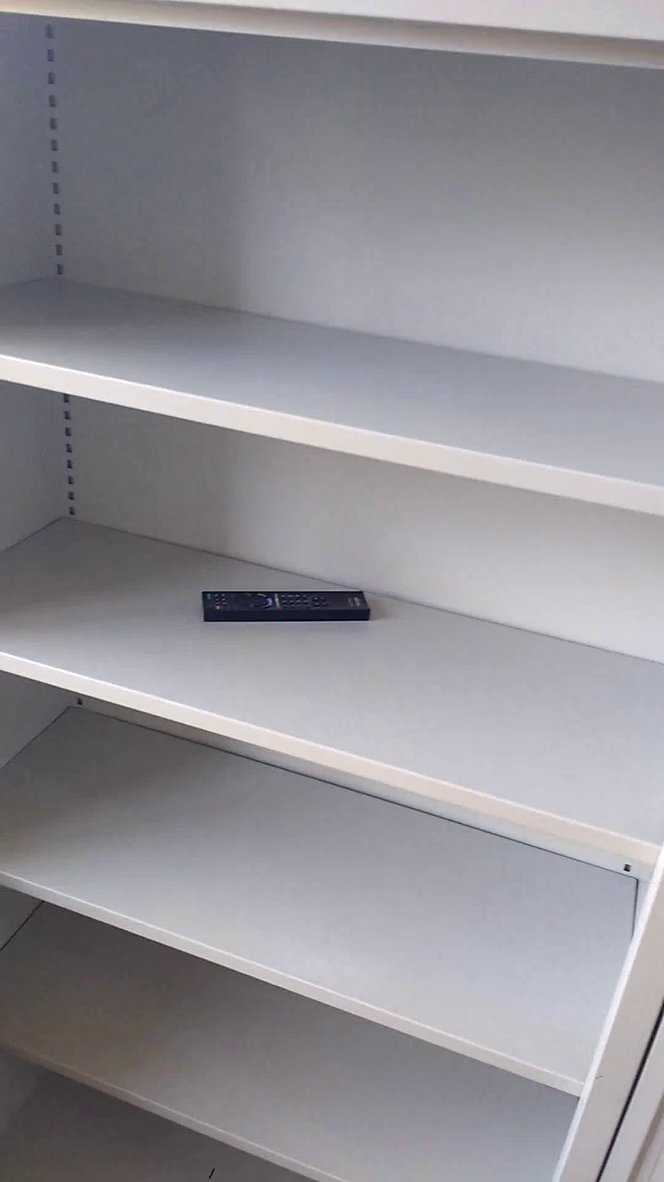remote: (197, 576, 376, 639)
